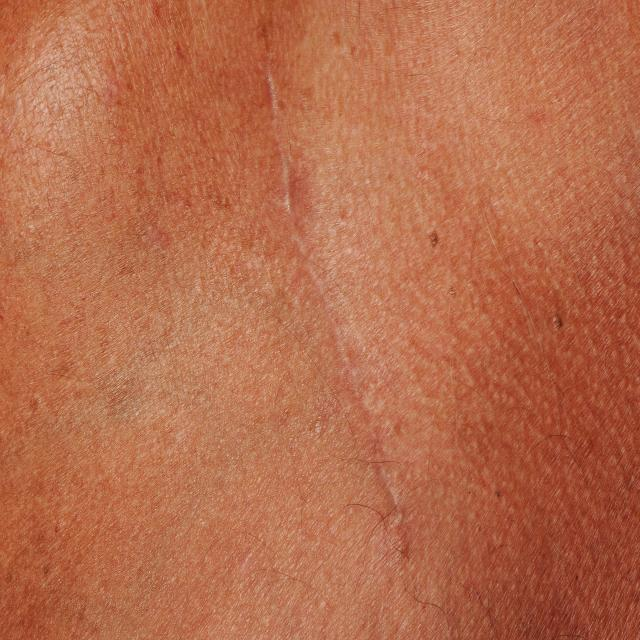wound: (254, 44, 419, 591)
